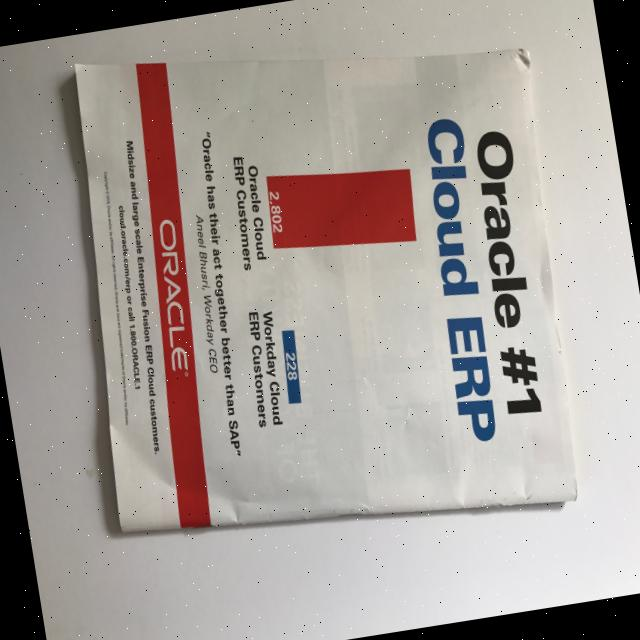paper: (46, 0, 599, 572)
